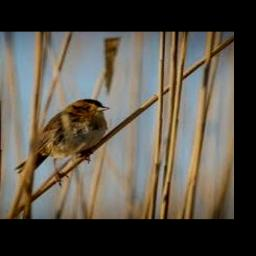Sparrow: (15, 98, 110, 186)
